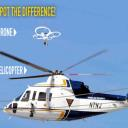helicopter: (3, 48, 128, 127)
